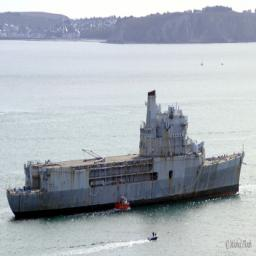Portanaves: (6, 88, 247, 223)
